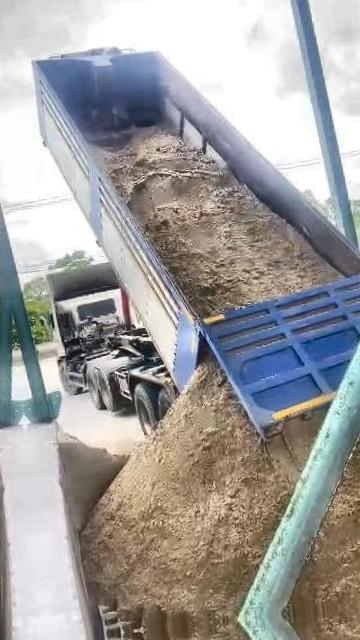sand: (83, 360, 321, 624), (95, 128, 339, 315), (294, 401, 360, 612), (58, 427, 130, 573)
